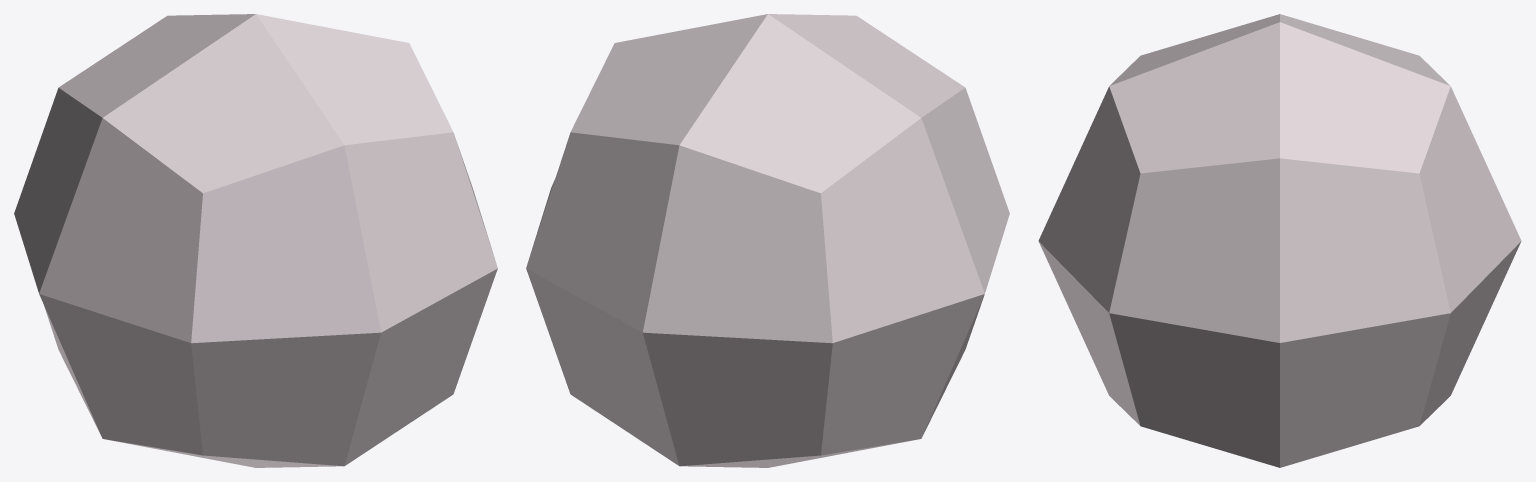
File: Snow_Ball_4.fbx
The picture shows the model from 3 angles, left to right: view 1: azimuth 30°, elevation 25°; view 2: azimuth 150°, elevation 25°; view 3: azimuth 270°, elevation 25°; orthographic projection. The views are drawn at different scales.
Visible parts, largest first — view 1: Snow_Ball_4; view 2: Snow_Ball_4; view 3: Snow_Ball_4.
Part boxes in pixels (box(x1,y1,x2,y2)): Snow_Ball_4: box(14, 14, 497, 467); Snow_Ball_4: box(526, 14, 1009, 467); Snow_Ball_4: box(1038, 14, 1521, 467).
Bounding box in the file's own units: 118 × 118 × 118.
Materials: 1 (1 with a texture image).
